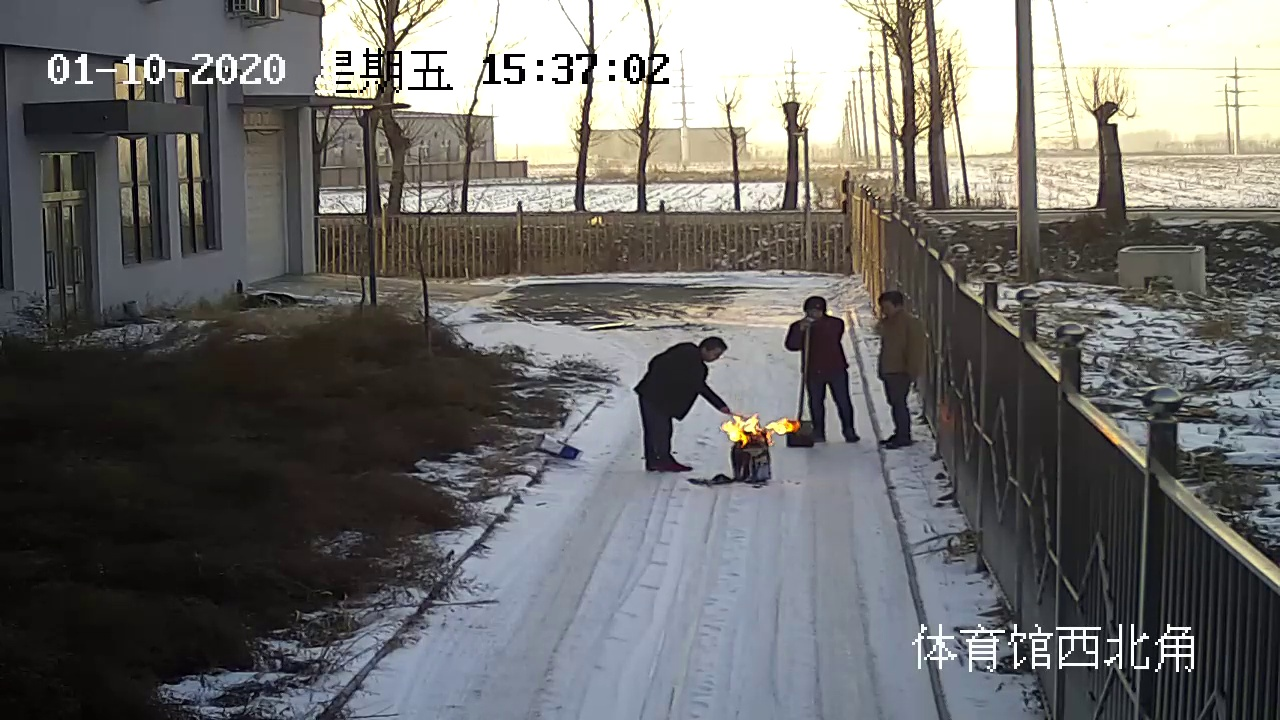fire: (721, 400, 796, 448)
